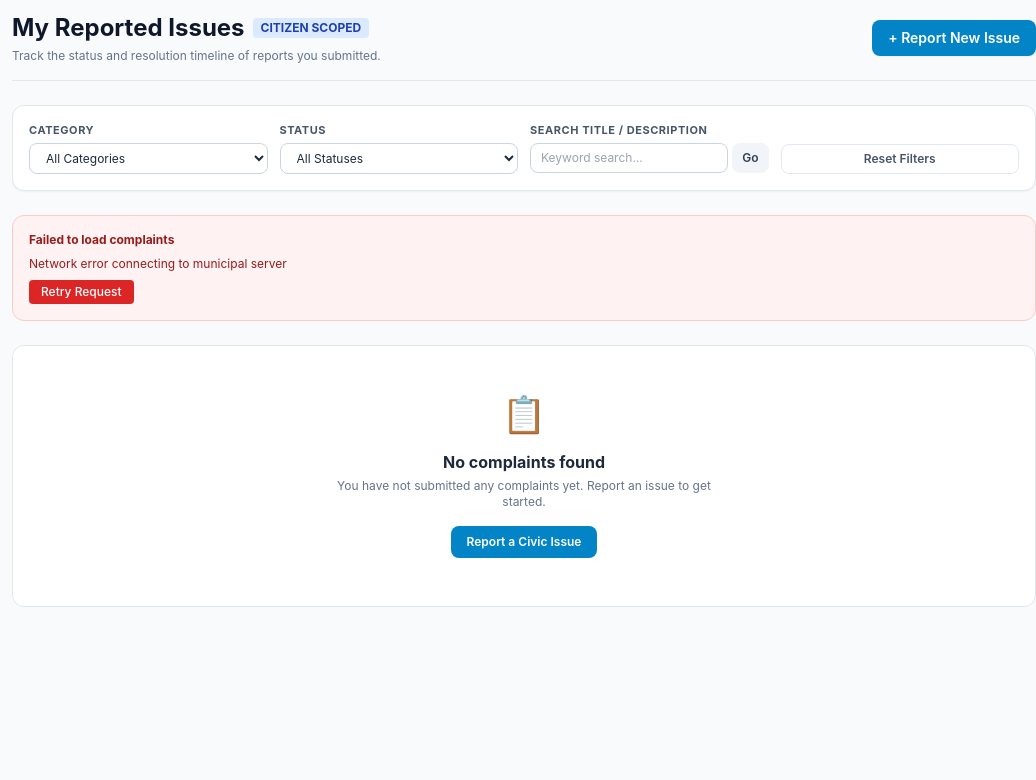
Test case: Complaint List Page Tests › renders error state and retries on user click
Expected: the text "Network error connecting to municipal server" is shown, [29,256,287,270]
What coordinates should you click on to do the following:
click the button "Retry Request"
I would click on:
 (81, 292)
Its box is [29,280,134,304].
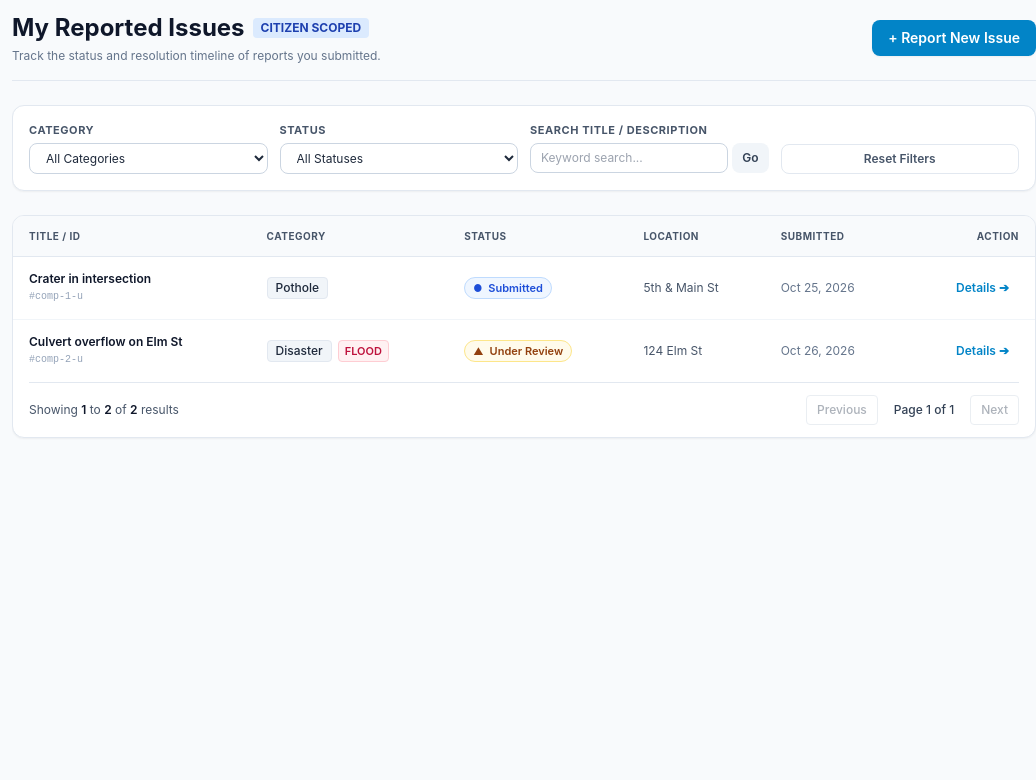
Expected: the link "Crater in intersection" is shown, [29,270,151,286]
